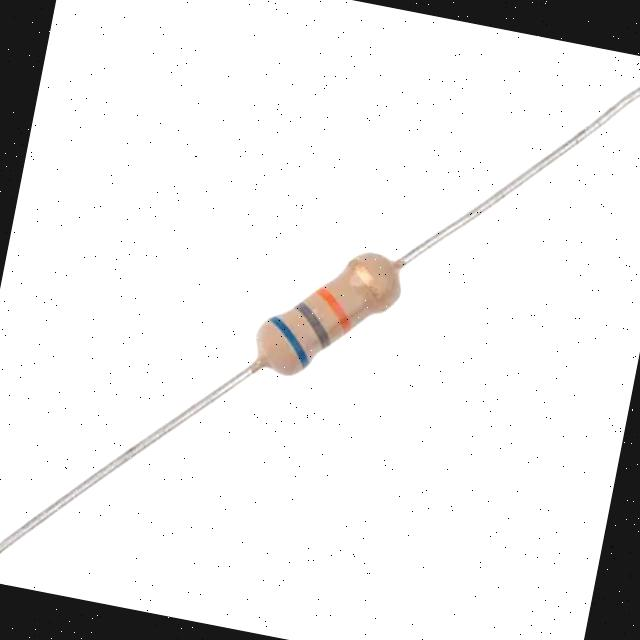blue: (268, 316, 310, 368)
gold: (347, 259, 392, 313)
grey: (294, 301, 332, 349)
orange: (315, 287, 354, 334)
resistor: (222, 230, 425, 400)
